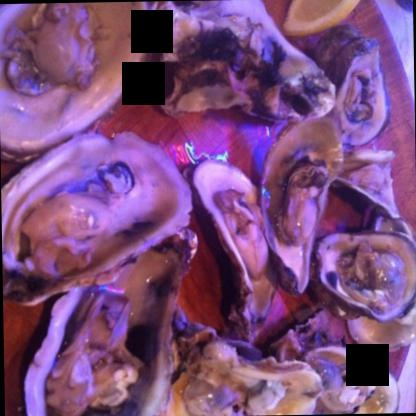oyster: (0, 131, 198, 306), (14, 224, 195, 415), (0, 2, 157, 160), (153, 0, 336, 126), (184, 160, 284, 336), (159, 312, 319, 415), (258, 116, 344, 294), (311, 231, 415, 326), (294, 342, 398, 414), (322, 44, 390, 150)
